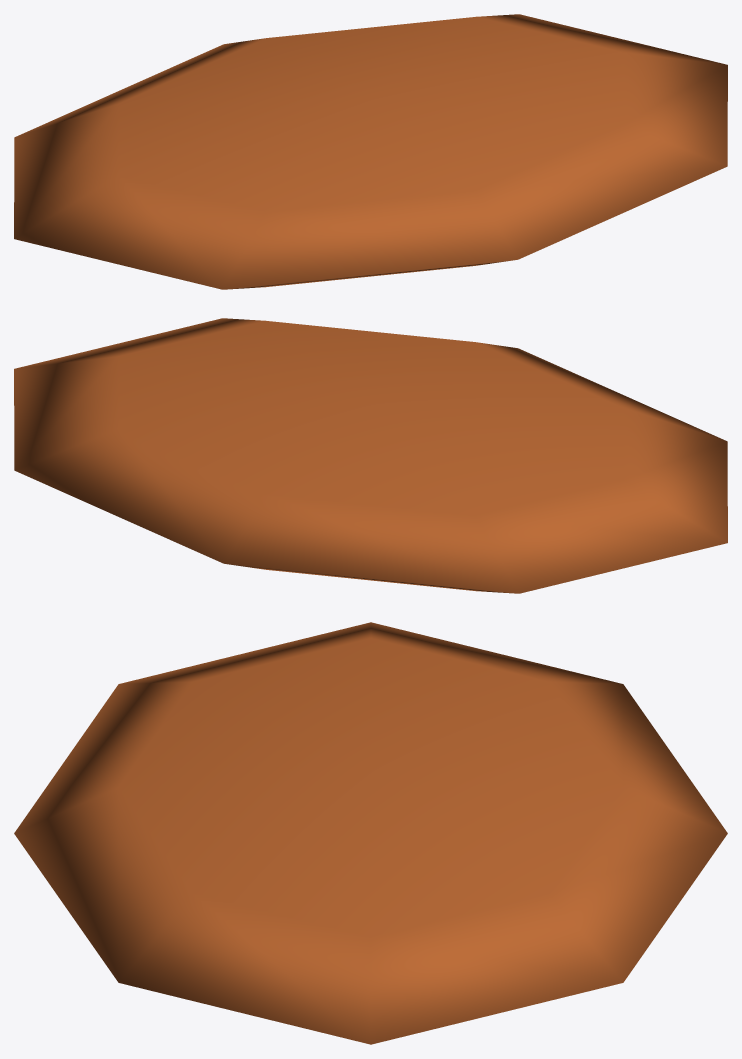
Rendered from flake.glb.
3 views of the same model, one above another, from view 1: azimuth 30°, elevation 25°; view 2: azimuth 150°, elevation 25°; view 3: azimuth 270°, elevation 25° (orthographic). The views are drawn at different scales.
Parts seen in each view (by area): view 1: flake; view 2: flake; view 3: flake.
Boxes of the visible parts, x1,y1,x2,y2 form: flake: (14,14,727,289); flake: (14,318,727,593); flake: (14,622,727,1044).
Bounding box in the file's own units: 0.028 × 0.004 × 0.02.
